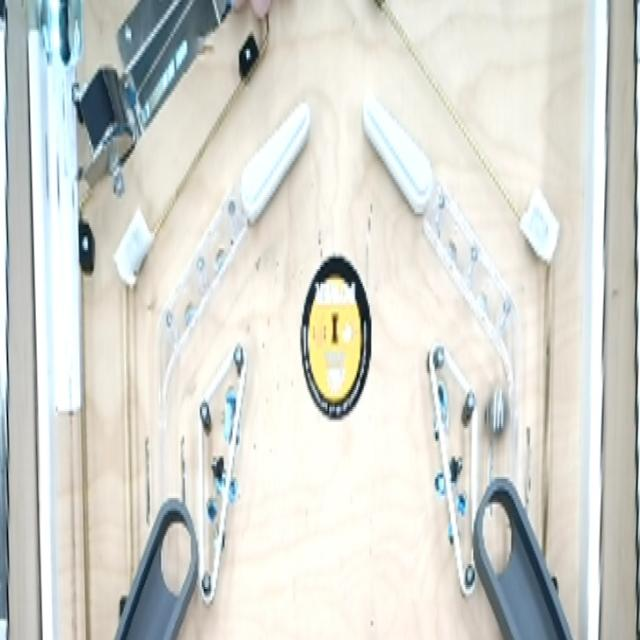ball: (479, 377, 513, 451)
flipper-left: (354, 87, 446, 233)
flipper-right: (236, 93, 313, 243)
